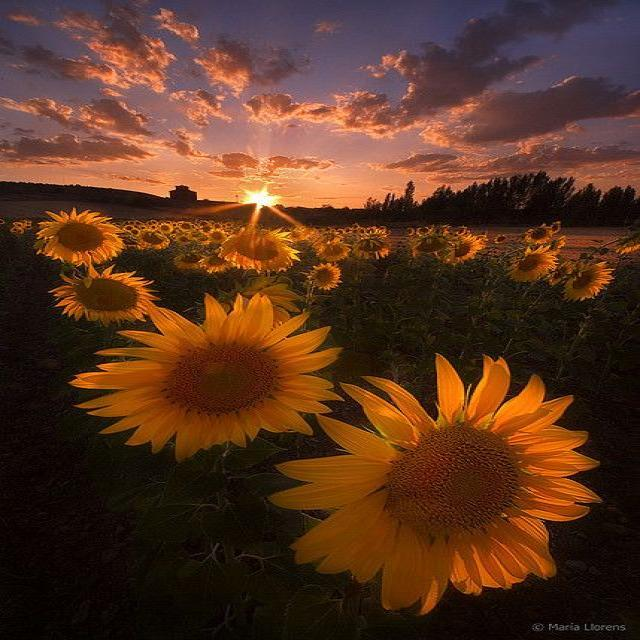sunflower: (267, 351, 601, 615), (69, 291, 344, 462), (48, 256, 160, 325), (32, 206, 126, 266), (216, 225, 300, 273), (560, 261, 614, 300), (506, 244, 558, 282), (438, 229, 484, 264), (407, 232, 452, 258), (306, 262, 342, 290), (350, 235, 390, 259), (314, 240, 351, 261), (544, 260, 573, 286), (134, 230, 169, 250), (522, 223, 554, 244), (174, 252, 206, 272), (196, 254, 228, 273), (314, 230, 344, 243), (208, 229, 227, 244), (550, 236, 568, 250), (616, 243, 640, 253), (415, 226, 435, 237), (159, 222, 174, 235), (188, 229, 204, 241), (197, 233, 213, 244), (176, 233, 192, 244), (178, 222, 195, 232), (456, 224, 468, 236), (494, 234, 508, 244), (550, 221, 562, 232), (122, 224, 134, 232), (343, 226, 355, 234), (130, 227, 140, 236), (366, 228, 378, 235), (357, 228, 367, 235), (406, 228, 414, 236), (14, 222, 24, 228), (10, 227, 18, 232), (17, 228, 24, 233)
